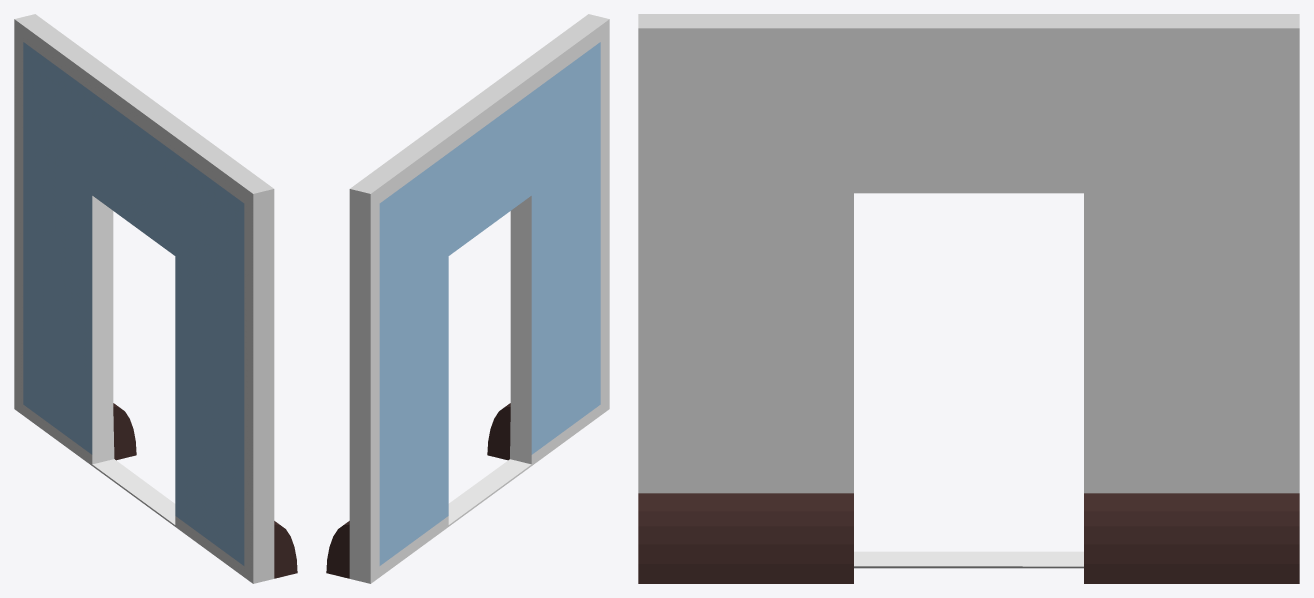
File: Wall-with-door-socket-B.fbx
3 renders of one model, left to right at view 1: azimuth 30°, elevation 25°; view 2: azimuth 150°, elevation 25°; view 3: azimuth 270°, elevation 25°, orthographic. The views are drawn at different scales.
Visible parts, largest first — view 1: Wall-with-door-hole B; view 2: Wall-with-door-hole B; view 3: Wall-with-door-hole B.
Part boxes in pixels (x1,y1,x2,y2): Wall-with-door-hole B: (14,14,297,583); Wall-with-door-hole B: (326,14,609,583); Wall-with-door-hole B: (638,14,1299,583).
Bounding box in the file's own units: 85.83 × 721 × 800.
